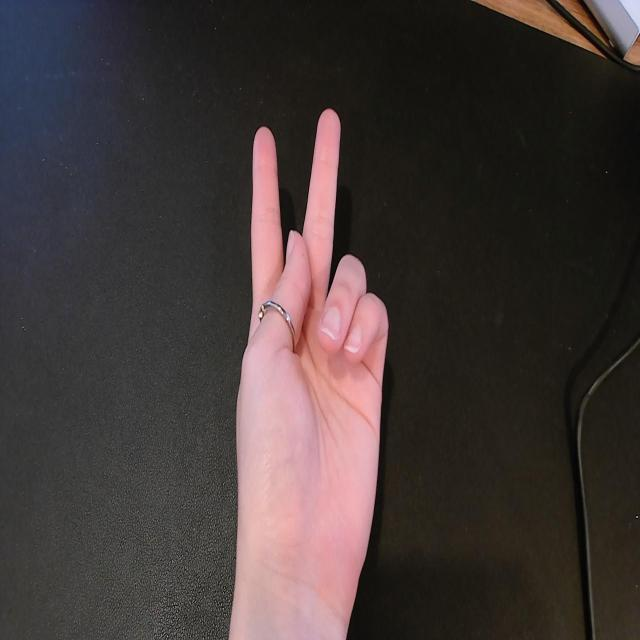K: (230, 94, 393, 598)
